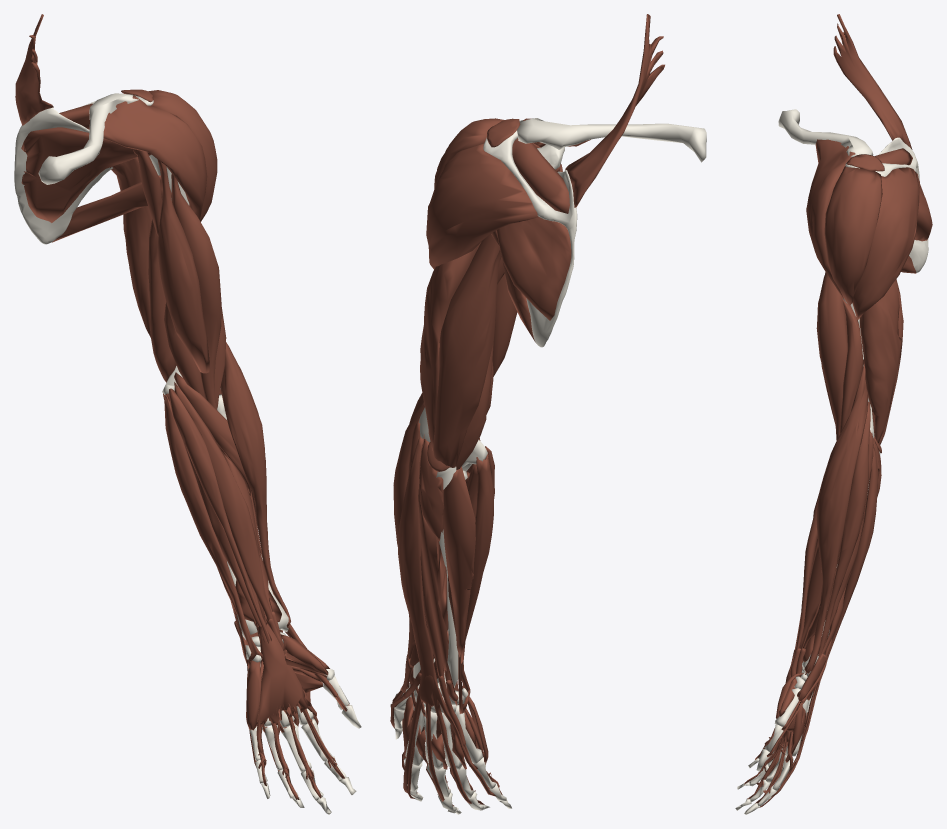
Rendered from upper_limb_left.glb.
3 renders of one model, left to right at view 1: azimuth 30°, elevation 25°; view 2: azimuth 150°, elevation 25°; view 3: azimuth 270°, elevation 25°, orthographic. The views are drawn at different scales.
Visible parts, largest first — view 1: Clavicular part of deltoid muscle, Short head of biceps brachii, Subscapularis muscle.002, Brachioradialis muscle.002, Long head of biceps brachii, Flexor carpi radialis, Humeral head of flexor carpi ulnaris, Palmaris longus muscle, Scapula.002, Long head of triceps brachii, Common flexor tendon sheath, Clavicle (+11 smaller); view 2: Long head of triceps brachii, Scapular spinal part of deltoid muscle, Extensor digitorum.016, Infraspinatus muscle.002, Ulnar head of flexor carpi ulnaris, Lateral head of triceps brachii, Clavicle, Scapula.002, Levator scapulae.002, Humeral head of flexor carpi ulnaris, Humeral head of extensor carpi ulnaris, Supraspinatus muscle.002 (+11 smaller); view 3: Brachioradialis muscle.002, Acromial part of deltoid muscle, Scapular spinal part of deltoid muscle, Lateral head of triceps brachii, Long head of biceps brachii, Clavicular part of deltoid muscle, Extensor carpi radialis longus.002, Levator scapulae.002, Extensor digitorum.016, Brachialis muscle.002, Clavicle, Scapula.002 (+10 smaller).
Boxes of the visible parts, box(x1,y1,x2,y2) form: Clavicular part of deltoid muscle: box(103, 95, 207, 219); Short head of biceps brachii: box(157, 159, 209, 373); Subscapularis muscle.002: box(21, 127, 137, 222); Brachioradialis muscle.002: box(220, 342, 290, 628); Long head of biceps brachii: box(171, 173, 221, 410); Flexor carpi radialis: box(174, 382, 275, 635); Humeral head of flexor carpi ulnaris: box(163, 393, 263, 668); Palmaris longus muscle: box(169, 388, 311, 726); Scapula.002: box(14, 96, 153, 244); Long head of triceps brachii: box(110, 157, 151, 337); Common flexor tendon sheath: box(256, 622, 307, 756); Clavicle: box(38, 93, 139, 184); Long head of triceps brachii: box(433, 234, 501, 467); Scapular spinal part of deltoid muscle: box(426, 143, 538, 269); Extensor digitorum.016: box(398, 436, 496, 803); Infraspinatus muscle.002: box(496, 217, 571, 320); Ulnar head of flexor carpi ulnaris: box(443, 466, 475, 663); Lateral head of triceps brachii: box(420, 242, 481, 451); Clavicle: box(517, 118, 706, 162); Scapula.002: box(483, 130, 577, 347); Levator scapulae.002: box(565, 14, 664, 207); Humeral head of flexor carpi ulnaris: box(457, 456, 493, 712); Humeral head of extensor carpi ulnaris: box(418, 434, 457, 705); Supraspinatus muscle.002: box(512, 138, 569, 213); Brachioradialis muscle.002: box(804, 359, 867, 674); Acromial part of deltoid muscle: box(824, 166, 882, 305); Scapular spinal part of deltoid muscle: box(852, 167, 919, 319); Lateral head of triceps brachii: box(859, 280, 901, 443); Long head of biceps brachii: box(816, 273, 847, 440); Clavicular part of deltoid muscle: box(806, 139, 855, 298); Extensor carpi radialis longus.002: box(806, 401, 870, 700); Levator scapulae.002: box(833, 14, 912, 149); Extensor digitorum.016: box(771, 447, 878, 797); Brachialis muscle.002: box(840, 299, 863, 433); Clavicle: box(778, 109, 873, 157); Scapula.002: box(845, 137, 928, 272).
Bounding box in the file's own units: 0.3229 × 0.8407 × 0.2143.
